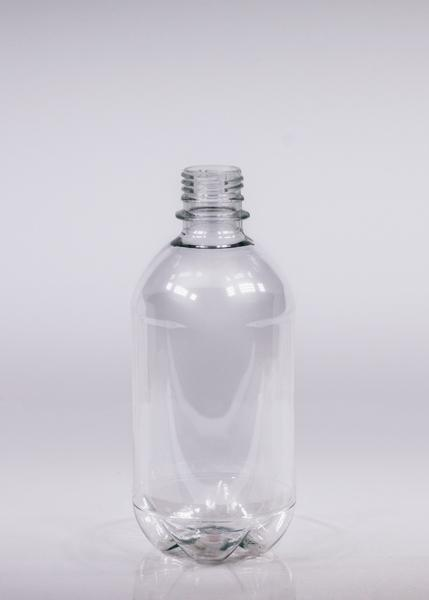bottle: (123, 186, 298, 548)
